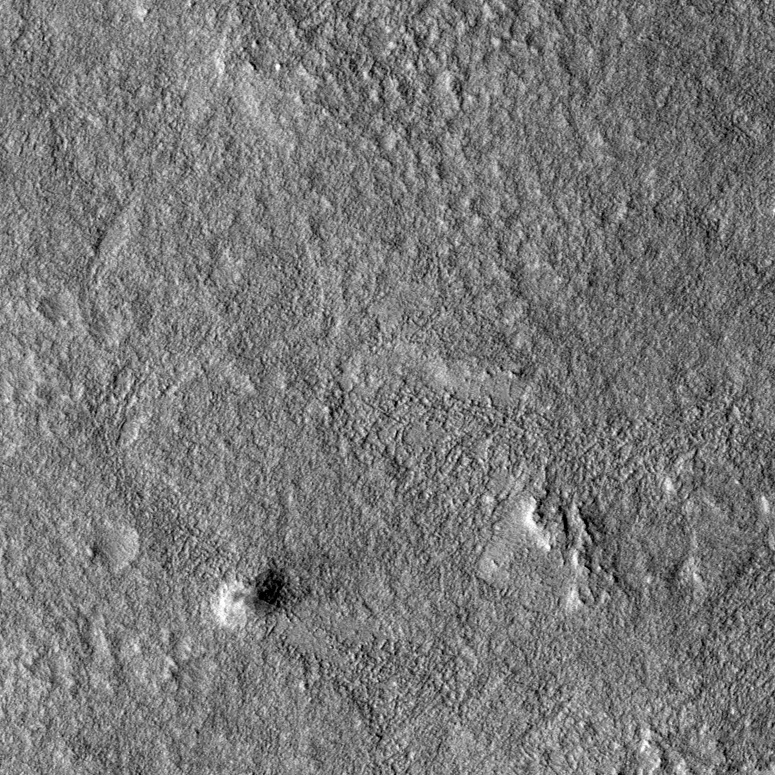dust_devil: (206, 552, 325, 633)
